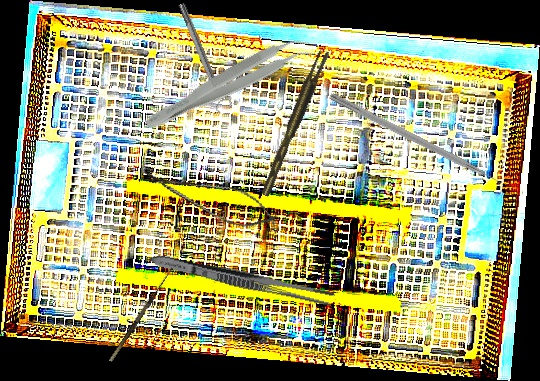Chopper: (322, 91, 513, 201)
Dressing Forceps: (148, 250, 336, 308)
Fixation Ring: (173, 0, 234, 114)
Hook Surgical: (103, 263, 175, 363)
Micro Scissor: (135, 159, 284, 238)
Tissue Forceps: (141, 28, 317, 142), (253, 47, 335, 198)
